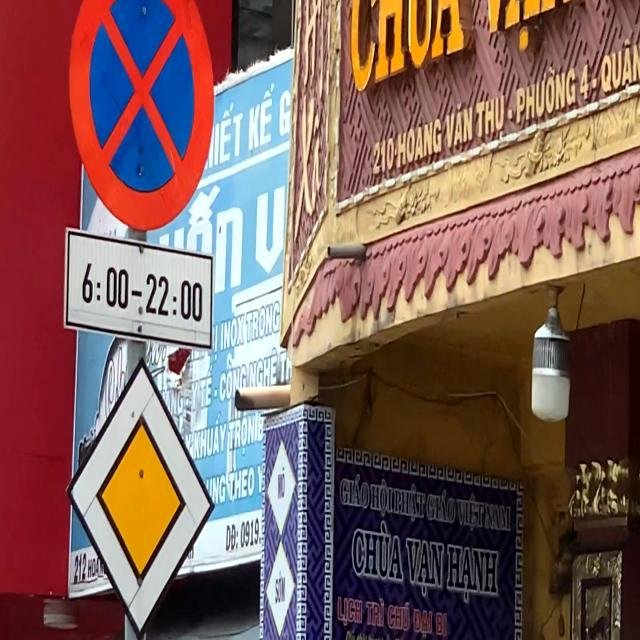Cam dung xe va do xe: (68, 0, 221, 228)
